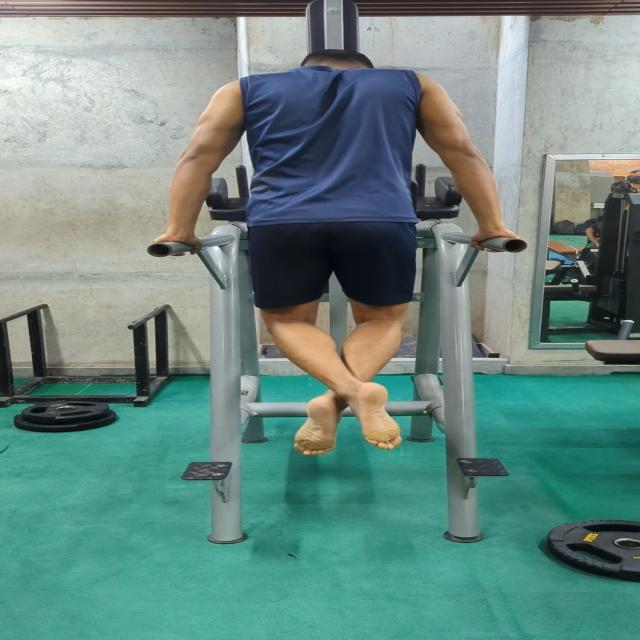Normal_Dips: (148, 38, 522, 457)
